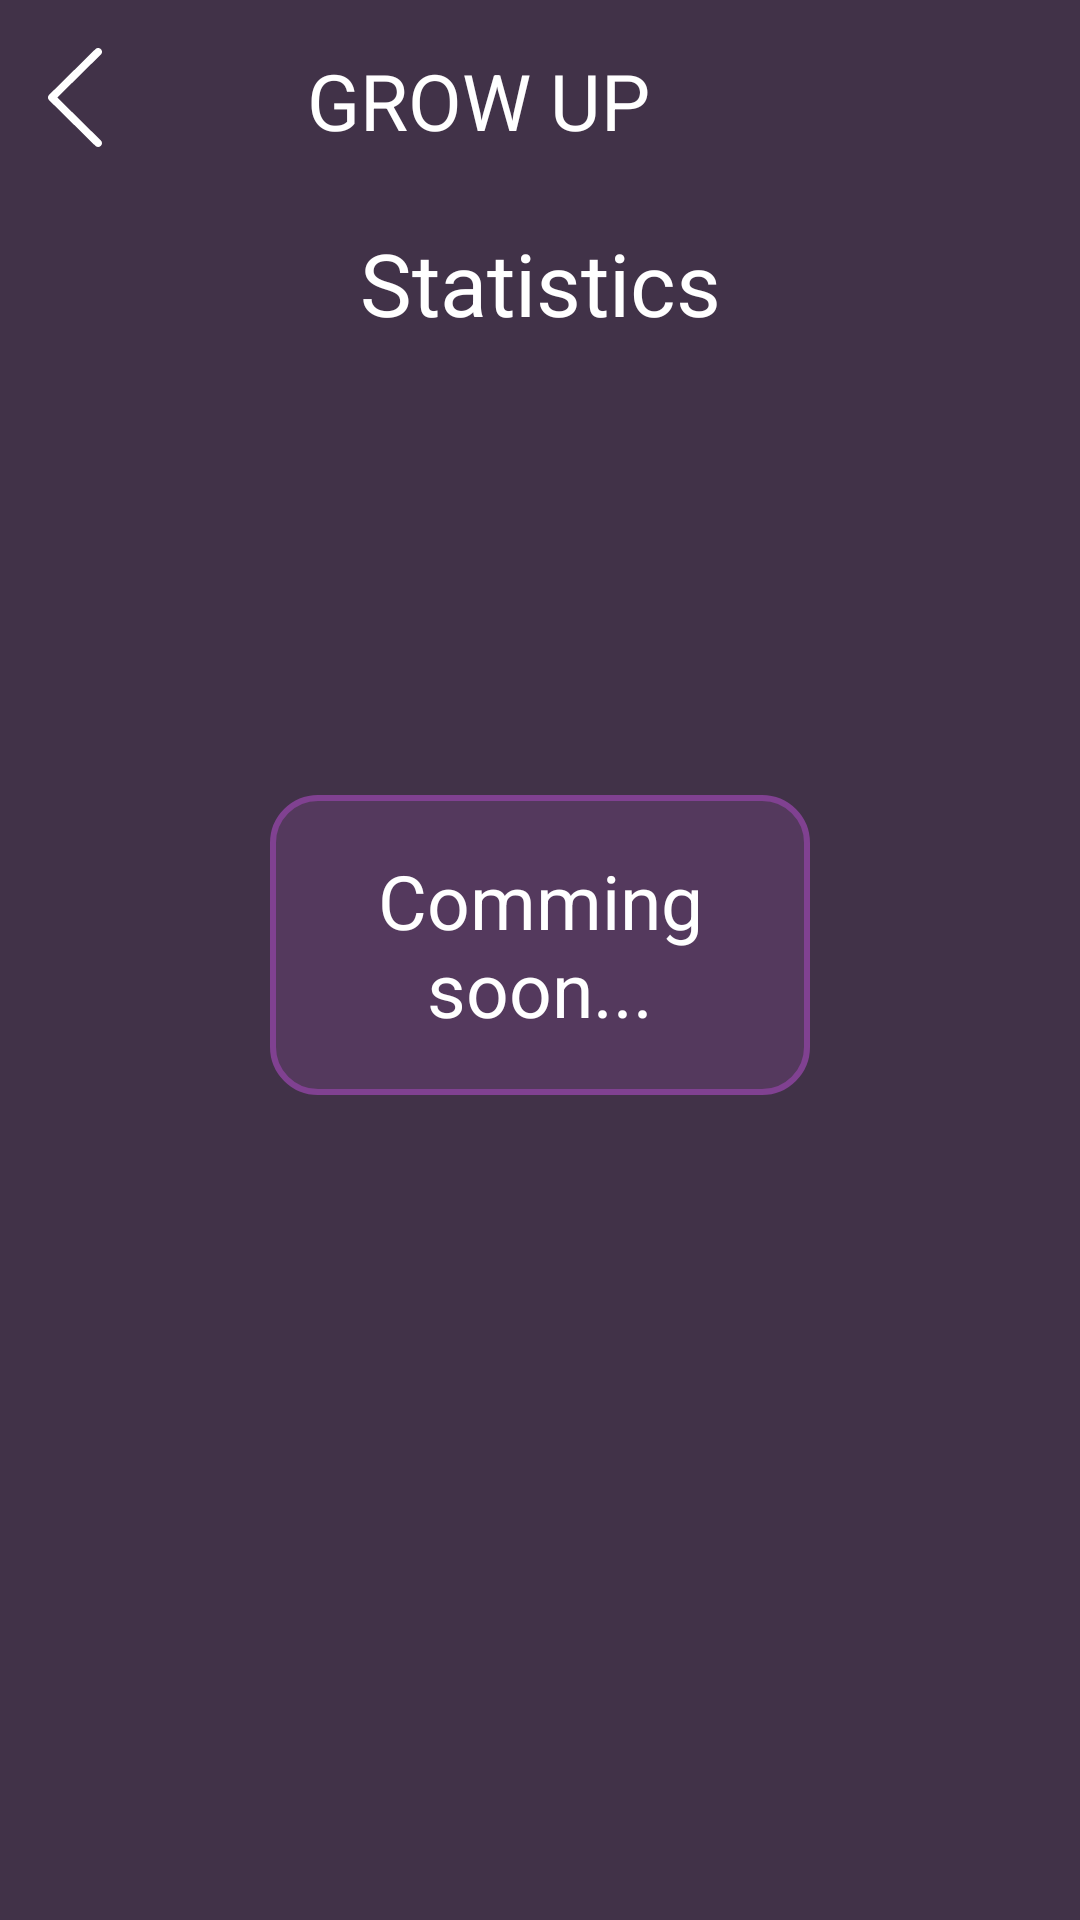

Point at icon controls on the screen. Image size 1080*1920, points as [x,y].
back: [75,97]
